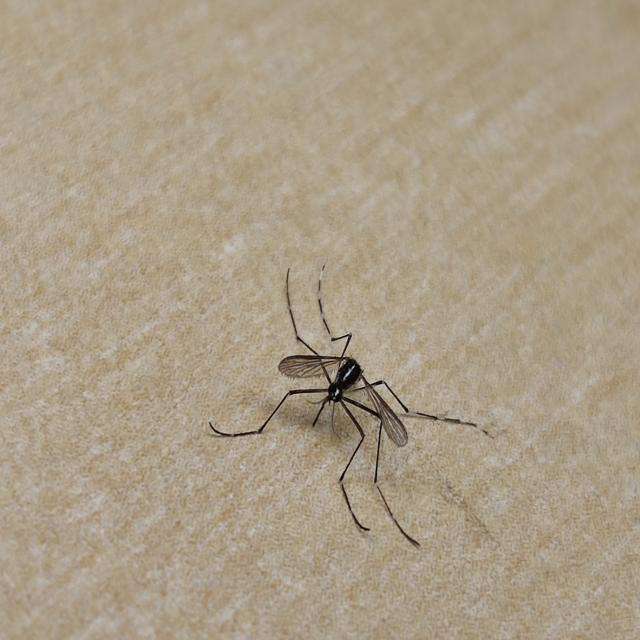albopictus: (211, 248, 493, 551)
